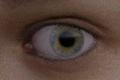eye: (50, 25, 84, 56)
